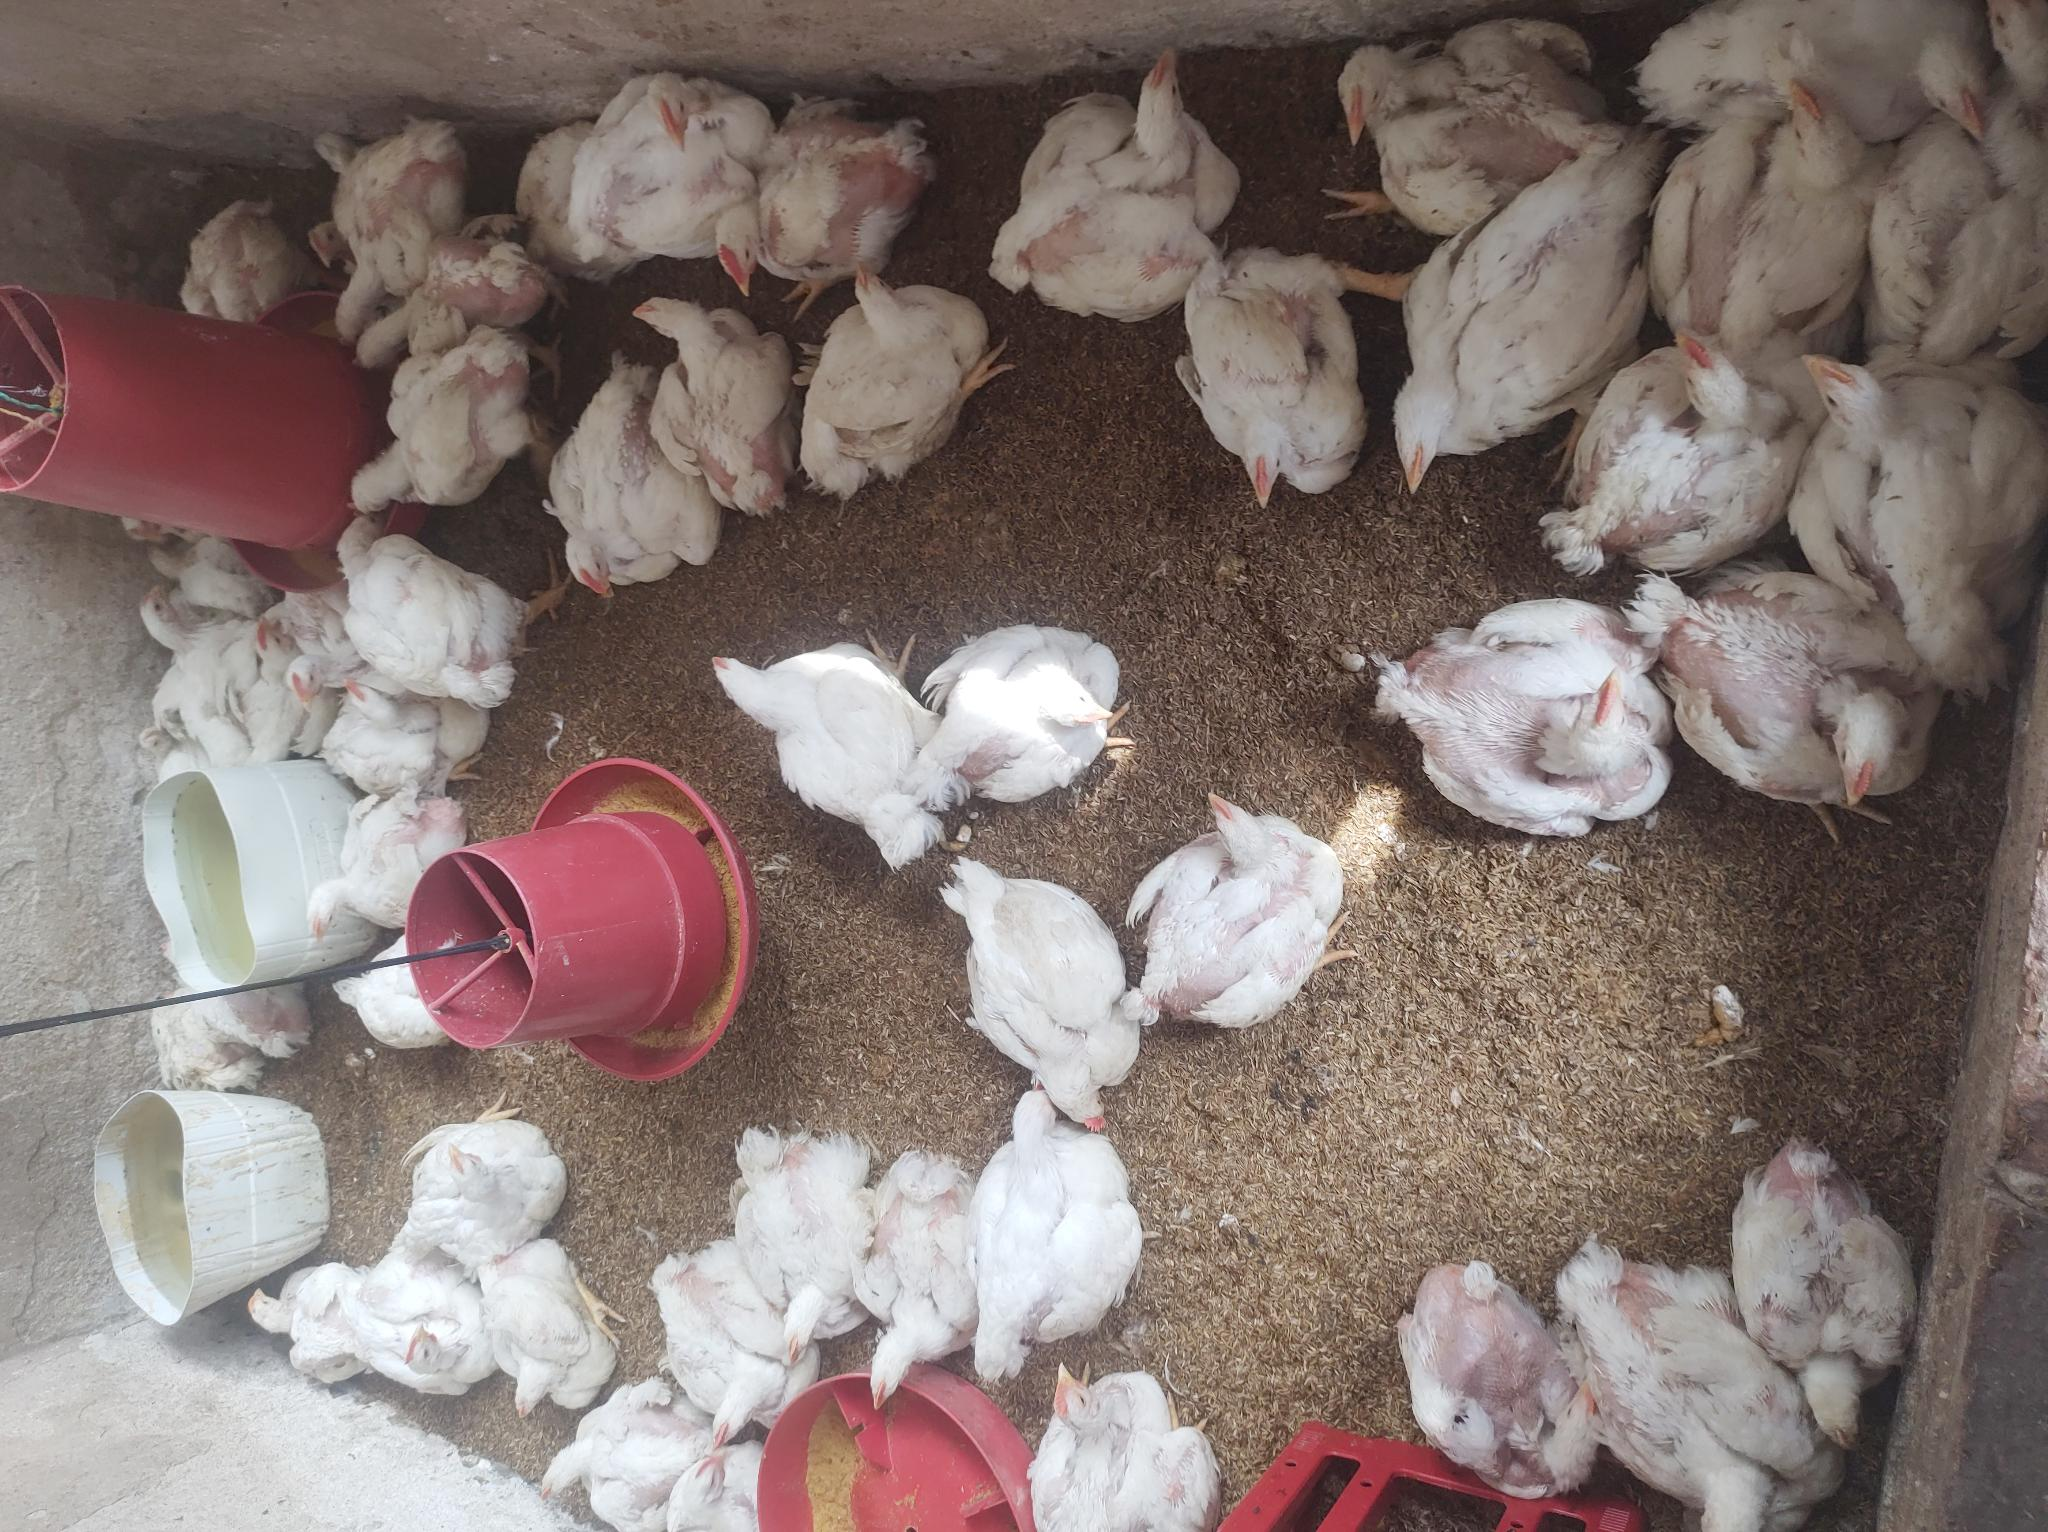Pollos: (1556, 1241, 1857, 1532), (1400, 166, 1655, 497), (1803, 336, 2045, 661), (1363, 599, 1668, 850), (1680, 574, 1955, 850), (1652, 77, 1908, 356), (997, 40, 1239, 333), (1625, 0, 1988, 161), (1565, 327, 1792, 581), (1733, 1118, 1918, 1424), (1319, 24, 1606, 217), (970, 1081, 1158, 1371), (689, 642, 936, 859), (1861, 18, 2048, 303), (1182, 241, 1380, 507), (566, 31, 759, 303), (927, 895, 1145, 1131), (729, 77, 952, 306), (1387, 1257, 1585, 1508), (1149, 797, 1356, 1032), (335, 507, 557, 710), (796, 259, 1004, 475), (915, 624, 1121, 840), (541, 365, 729, 586), (846, 1131, 980, 1424), (639, 272, 806, 504), (718, 1109, 880, 1344), (344, 340, 557, 513), (108, 937, 298, 1118), (1038, 1365, 1239, 1532), (644, 1246, 822, 1431), (307, 124, 491, 286), (294, 785, 483, 927), (479, 1226, 627, 1403), (402, 1102, 557, 1266), (356, 240, 541, 365), (154, 191, 293, 340), (362, 1250, 491, 1408), (528, 1390, 664, 1532), (241, 1250, 376, 1394), (655, 1403, 788, 1532), (325, 932, 470, 1048), (322, 695, 470, 806), (516, 87, 597, 254), (145, 517, 278, 605), (134, 595, 224, 702), (288, 571, 339, 723), (293, 195, 376, 272), (238, 605, 315, 682), (117, 702, 183, 785), (117, 507, 233, 534)
